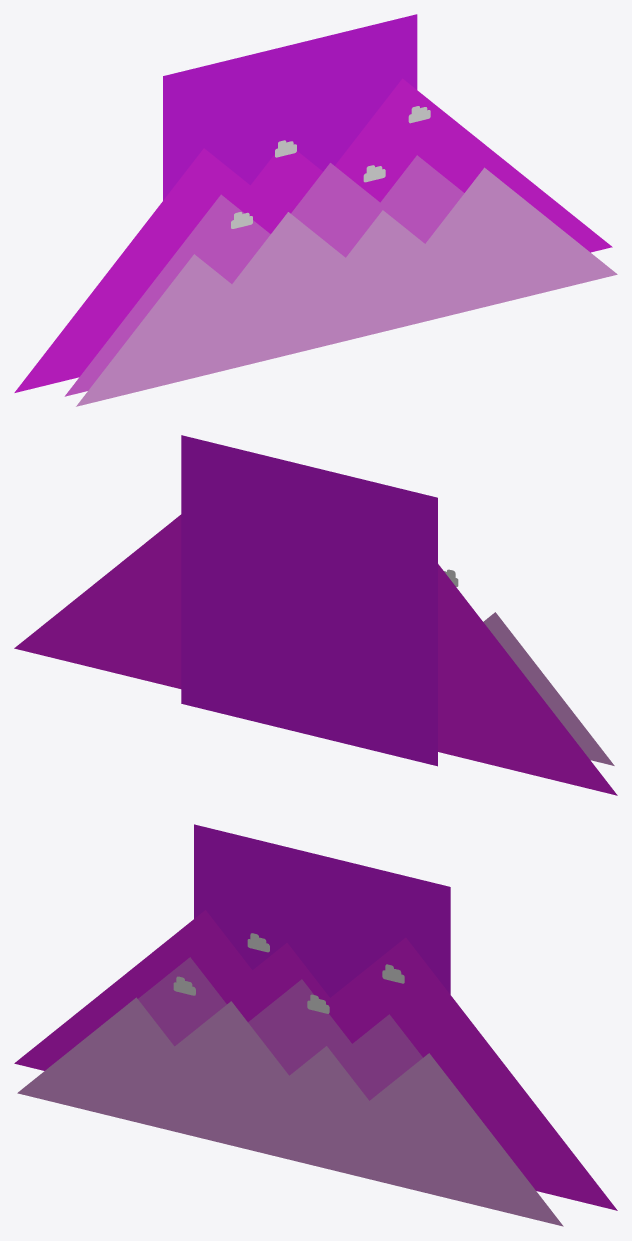
Rendered from background-pink.glb.
The picture shows the model from 3 angles, top to bottom: view 1: azimuth 30°, elevation 25°; view 2: azimuth 150°, elevation 25°; view 3: azimuth 330°, elevation 25°; orthographic projection.
Visible parts, largest first — view 1: Background-2, Background-4, Background-5, Background-3, Clouds; view 2: Background-5, Background-4, Background-2; view 3: Background-2, Background-4, Background-5, Background-3, Clouds.
Boxes of the visible parts, bbox=[...] form: Background-2: bbox=[76, 167, 617, 406]; Background-4: bbox=[14, 78, 612, 392]; Background-5: bbox=[163, 14, 417, 200]; Background-3: bbox=[64, 155, 464, 396]; Clouds: bbox=[231, 106, 430, 228]; Background-5: bbox=[181, 435, 437, 766]; Background-4: bbox=[14, 514, 617, 795]; Background-2: bbox=[483, 612, 614, 765]; Background-2: bbox=[17, 997, 563, 1226]; Background-4: bbox=[14, 910, 617, 1210]; Background-5: bbox=[194, 824, 450, 997]; Background-3: bbox=[138, 957, 422, 1100]; Clouds: bbox=[173, 933, 404, 1013].
Bounding box in the file's own units: 2.35 × 1 × 0.3.
